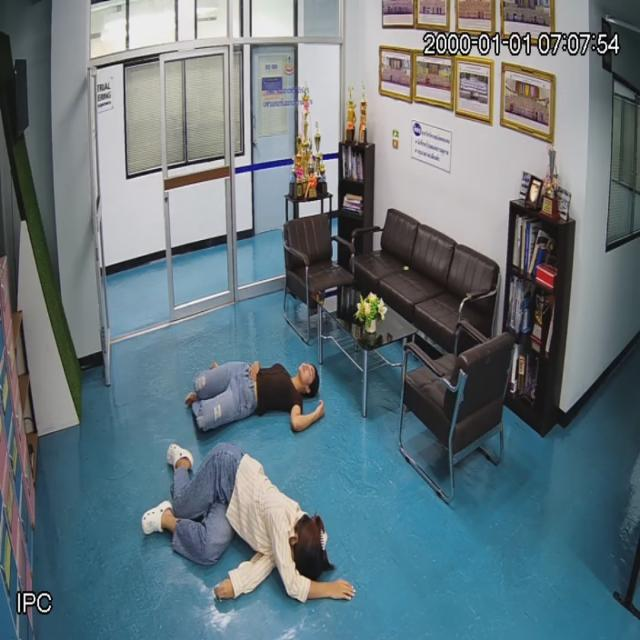fall: (144, 443, 352, 605), (188, 355, 325, 439)
